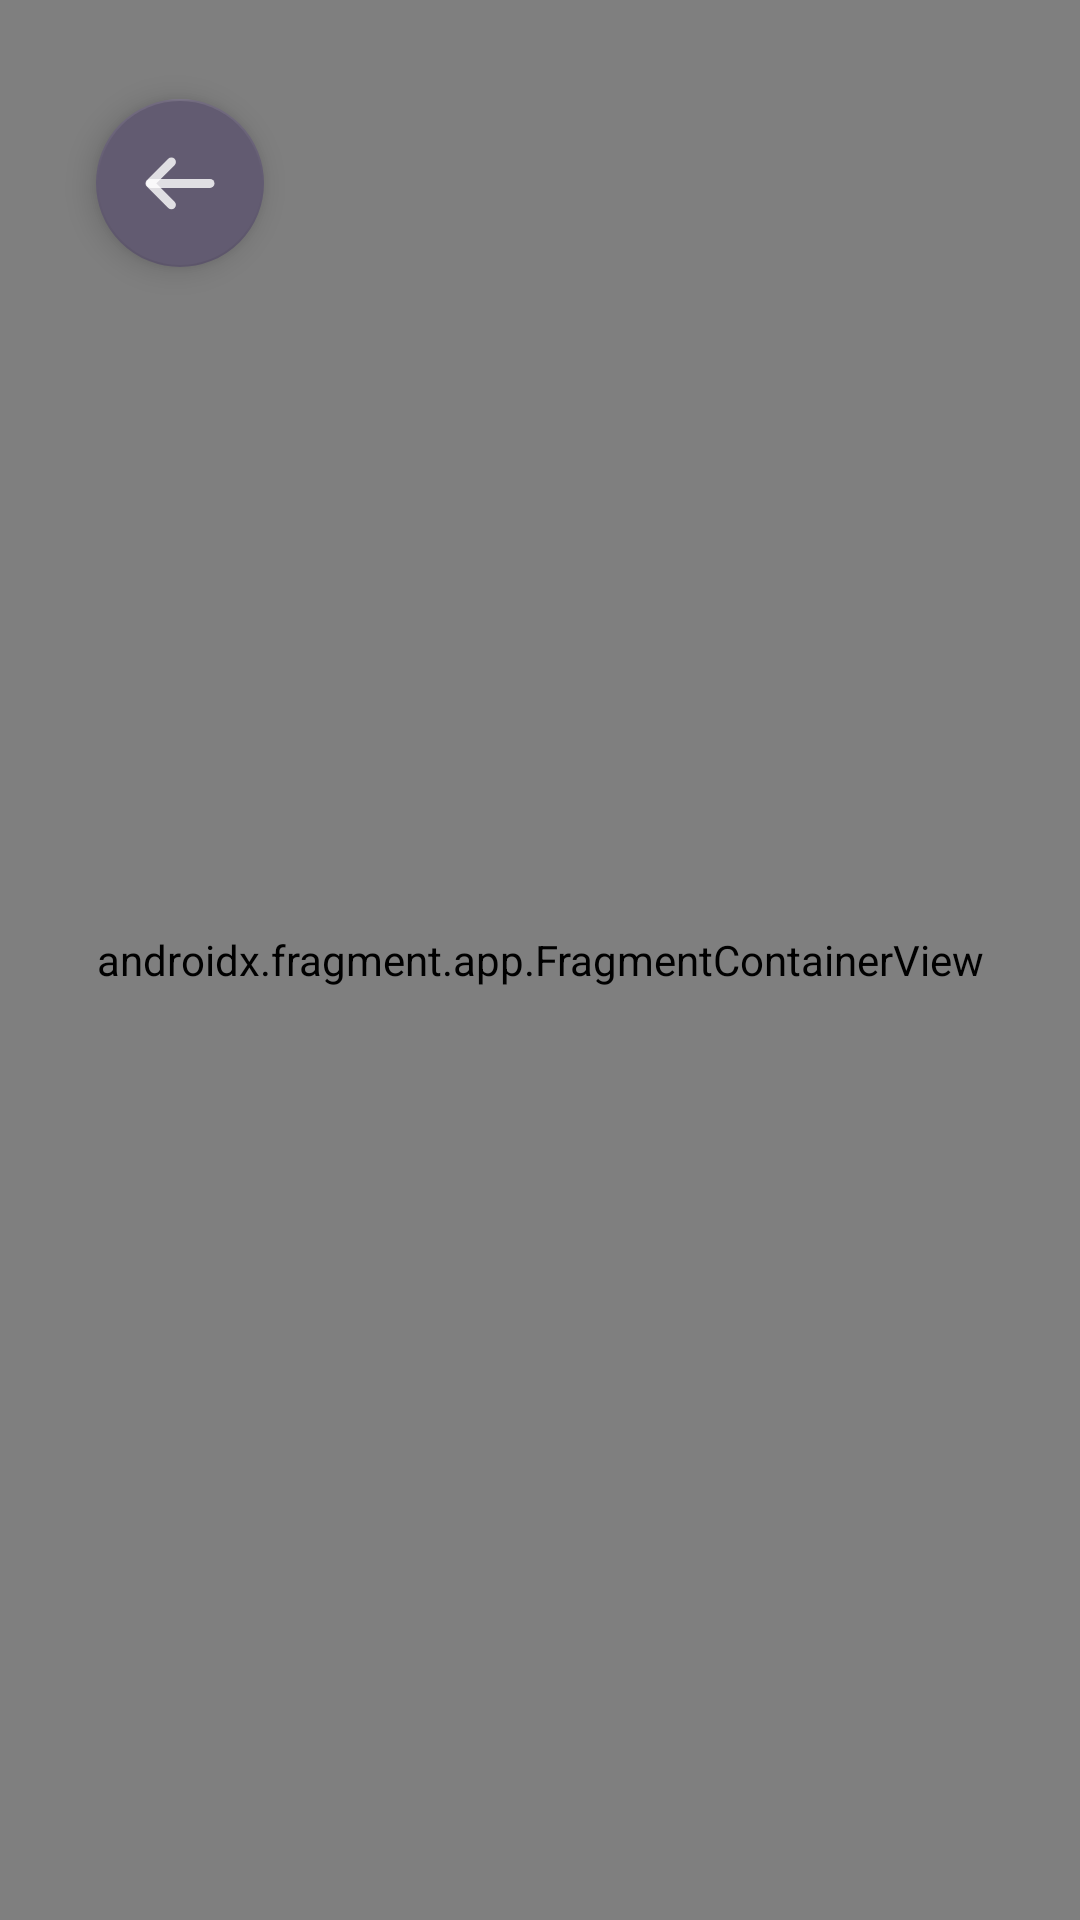

Icons on this 1080px x 1920px Android screen, each with its box as (x1, y1, x2, y2):
upload back: (96, 101, 264, 267)
